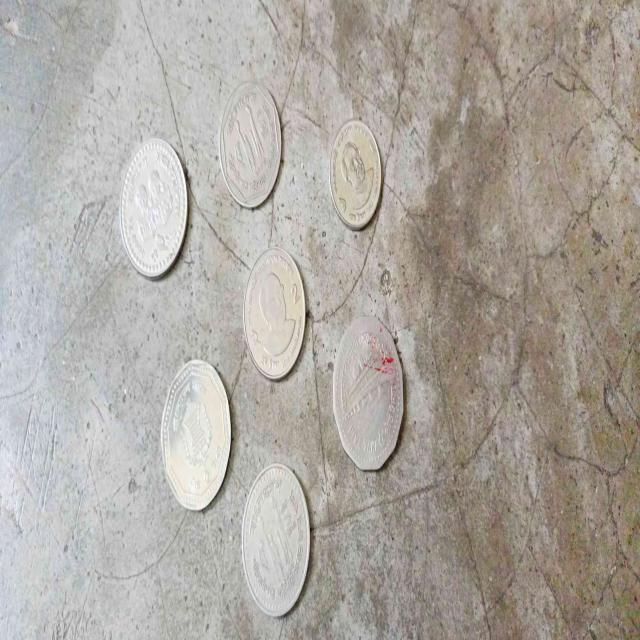1_taka: (236, 452, 316, 636), (214, 58, 286, 218), (325, 106, 392, 242)
2_taka: (115, 126, 192, 290), (239, 236, 315, 378)
5_taka: (328, 298, 414, 474), (153, 354, 234, 514)
